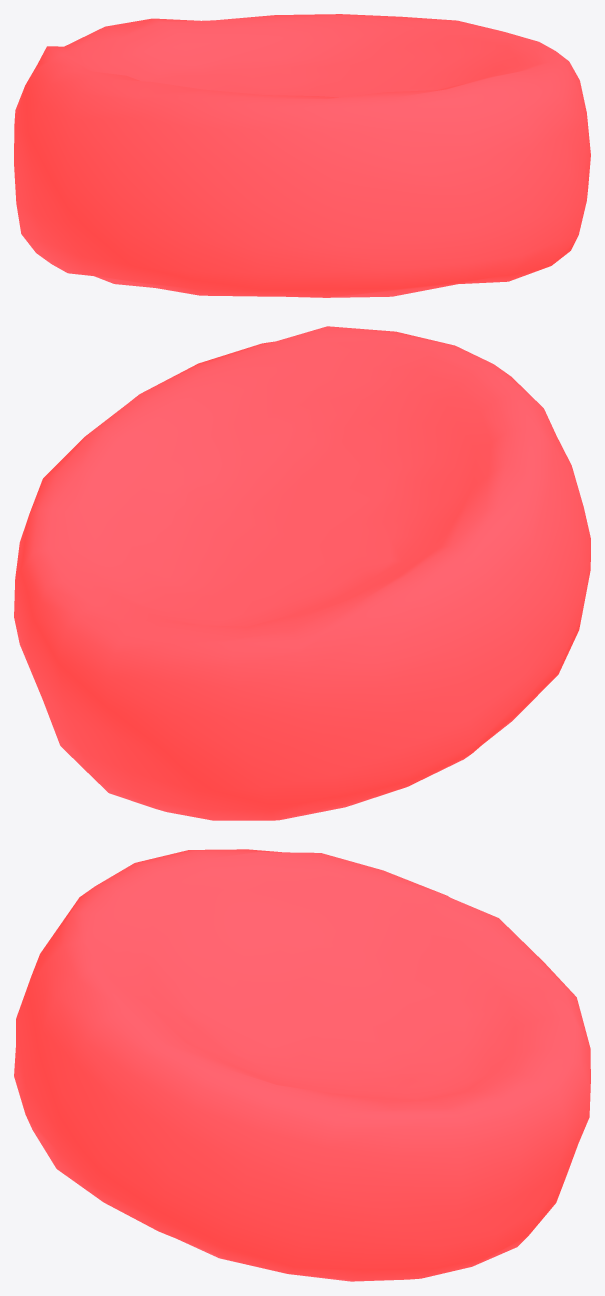
Rendered from red blood cells1.fbx.
The picture shows the model from 3 angles, top to bottom: view 1: azimuth 30°, elevation 25°; view 2: azimuth 150°, elevation 25°; view 3: azimuth 270°, elevation 25°; orthographic projection. The views are drawn at different scales.
Visible parts, largest first — view 1: Cylinder.002; view 2: Cylinder.002; view 3: Cylinder.002.
Part boxes in pixels (box(x1,y1,x2,y2)): Cylinder.002: box(14, 14, 590, 297); Cylinder.002: box(14, 326, 590, 820); Cylinder.002: box(14, 849, 590, 1281).
Size of the model in its own units: 51.72 by 30.37 by 54.46.
